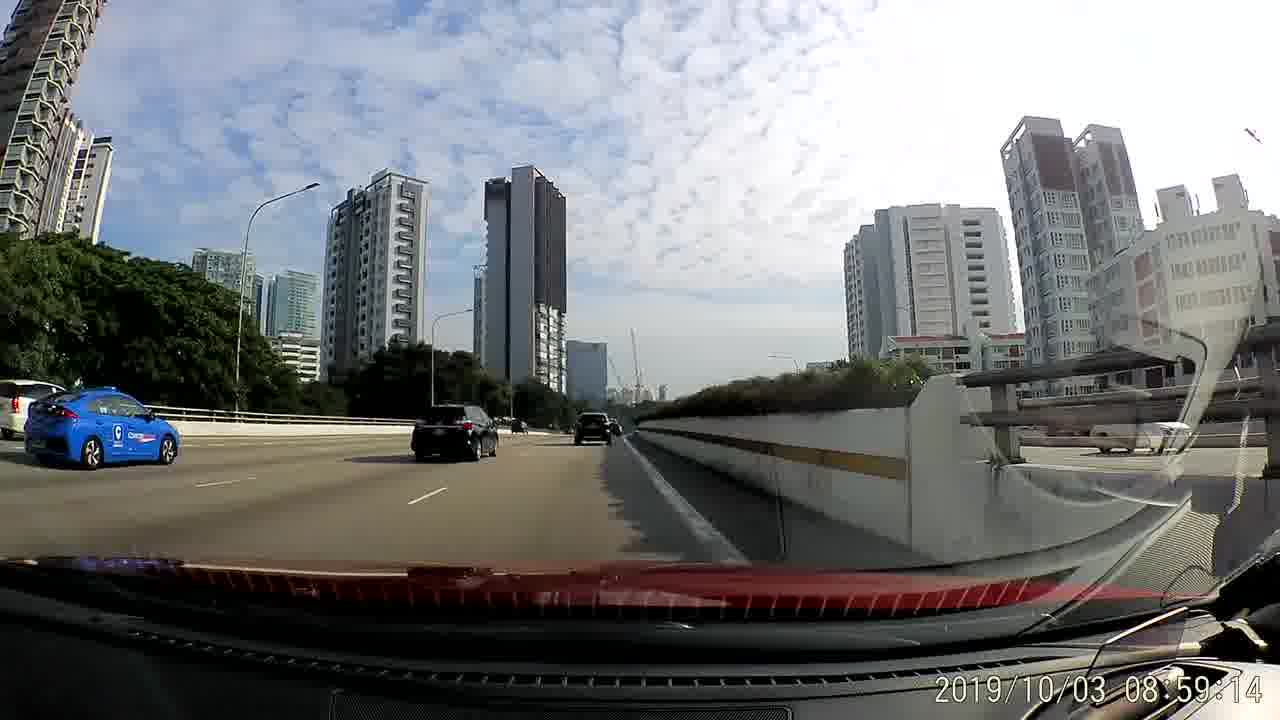car: (25, 385, 180, 469), (409, 399, 501, 464), (572, 408, 613, 445)
